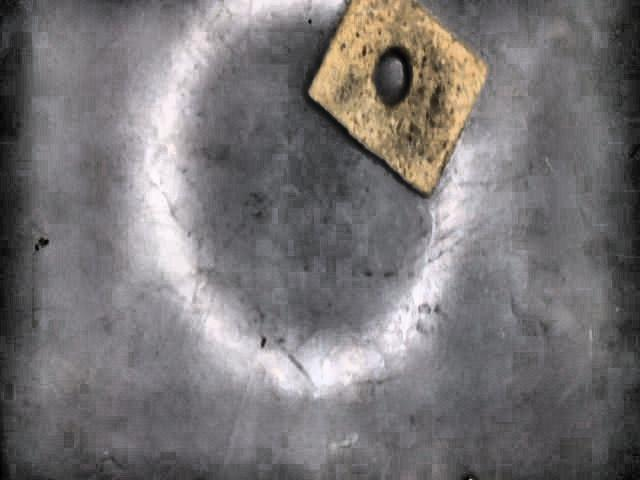Almennt: (304, 0, 491, 205)
